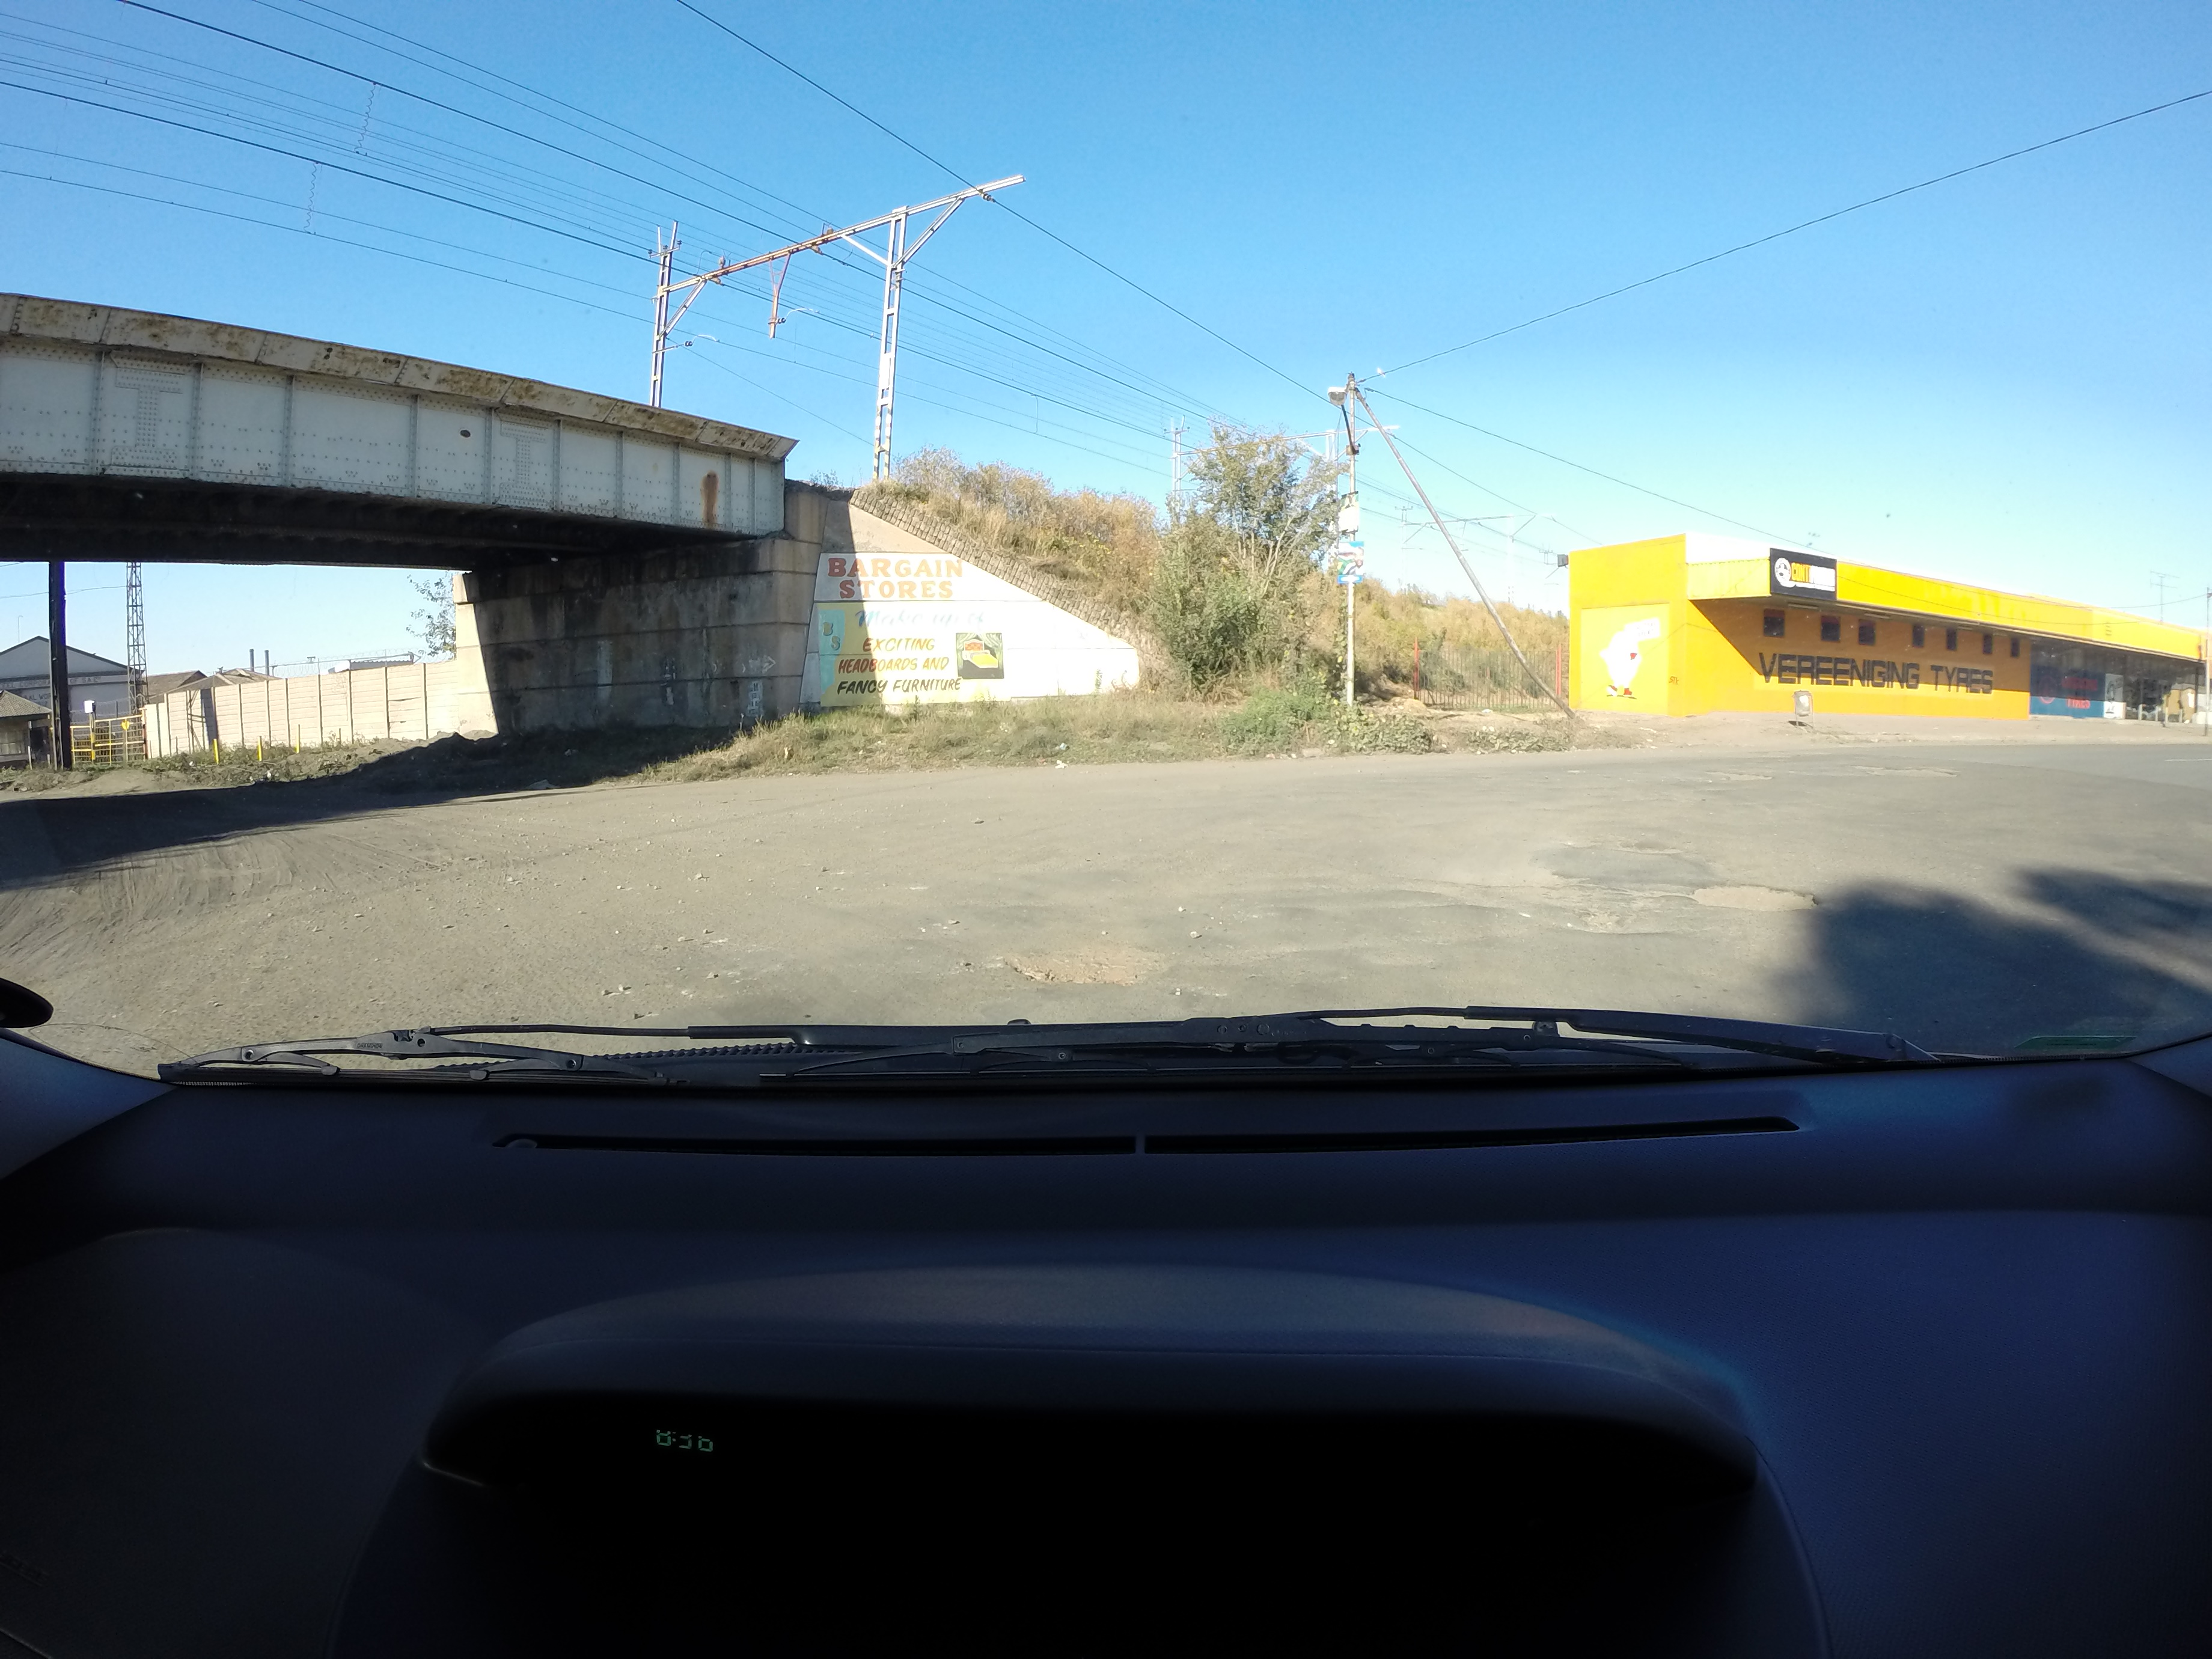pothole: (1460, 847, 1905, 962), (996, 938, 1212, 1014)
